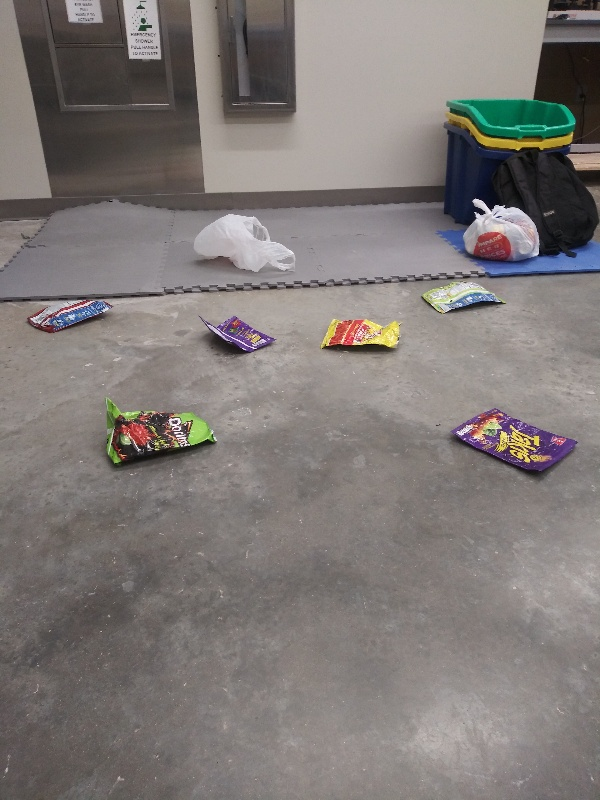bag: (440, 402, 584, 486), (97, 394, 223, 468), (19, 294, 121, 335), (192, 313, 282, 359), (315, 310, 407, 355), (418, 276, 510, 319)
